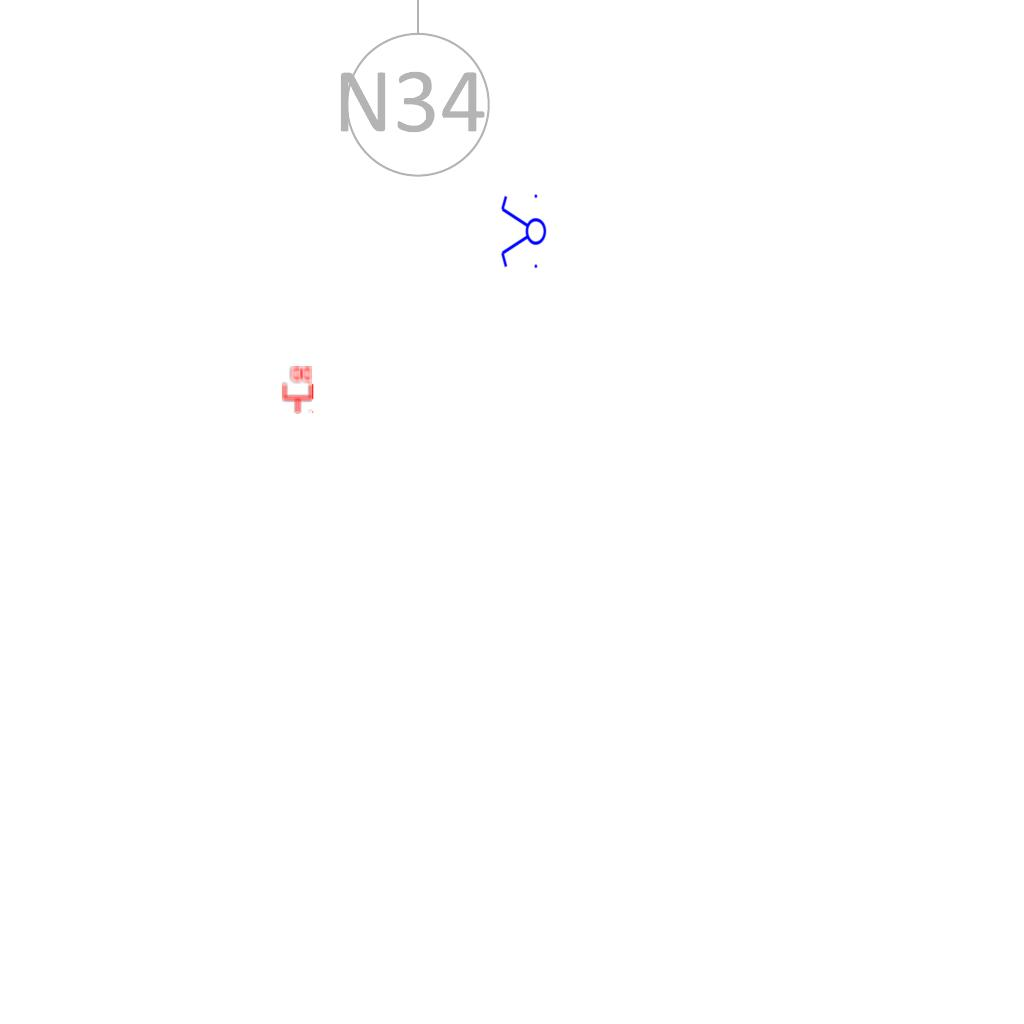Datenanschluss_zweifach: (280, 364, 314, 415)
Serienschalter: (499, 190, 547, 274)
